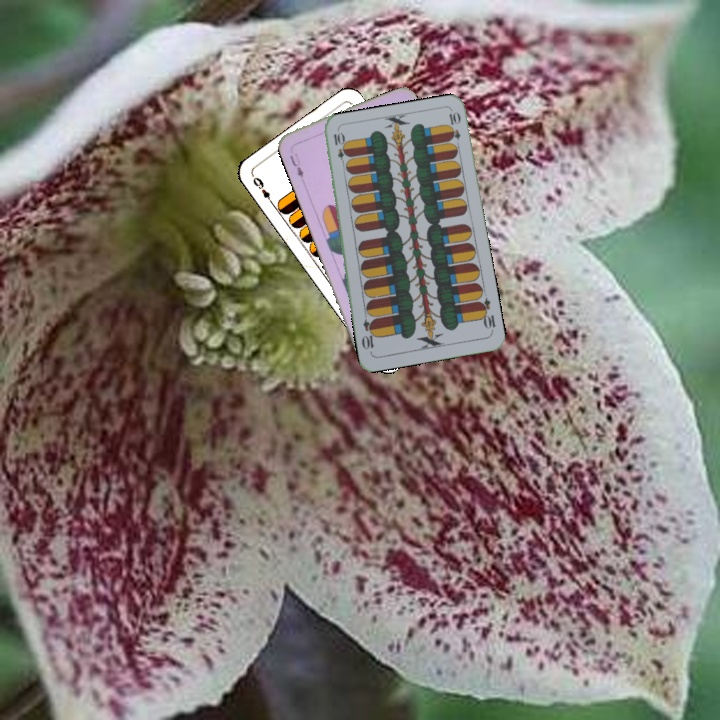E10: (475, 294, 498, 335), (329, 128, 349, 169)
E9: (249, 173, 276, 207)
EU: (286, 149, 306, 181)
